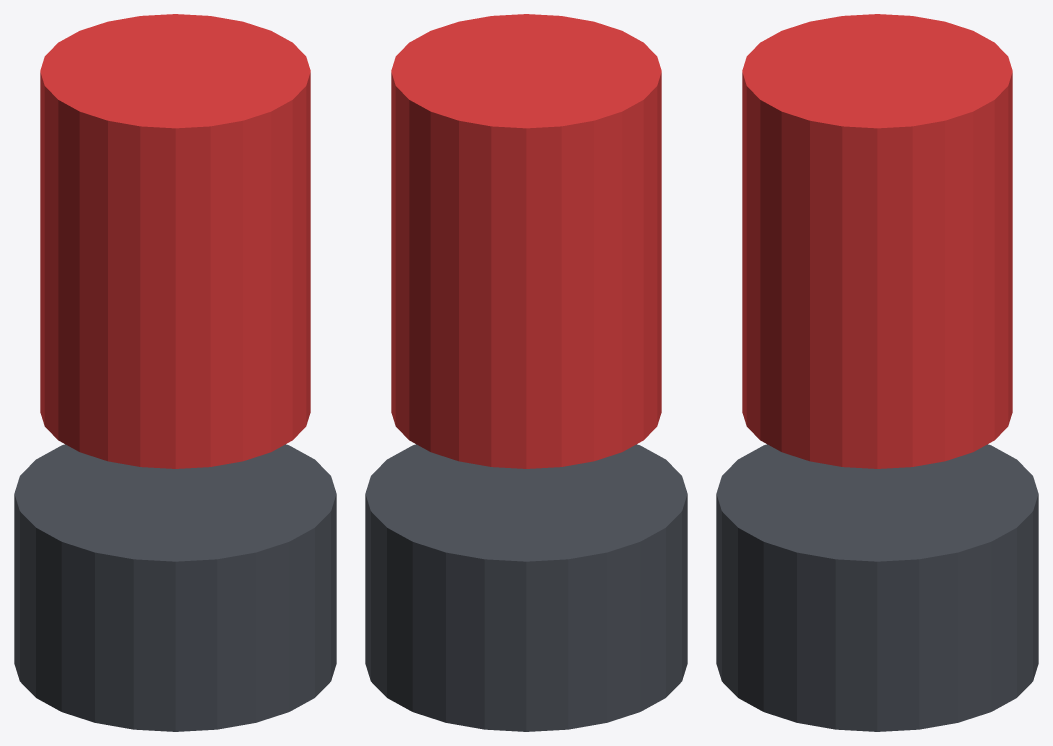
File: yellowtec-litt.glb
The picture shows the model from 3 angles, left to right: view 1: azimuth 30°, elevation 25°; view 2: azimuth 150°, elevation 25°; view 3: azimuth 270°, elevation 25°; orthographic projection.
Visible parts, largest first — view 1: yellowtec-litt; view 2: yellowtec-litt; view 3: yellowtec-litt.
Part boxes in pixels (x1,y1,x2,y2): yellowtec-litt: (14, 14, 336, 731); yellowtec-litt: (365, 14, 687, 731); yellowtec-litt: (716, 14, 1038, 731).
Bounding box in the file's own units: 0.12 × 0.2436 × 0.12.
